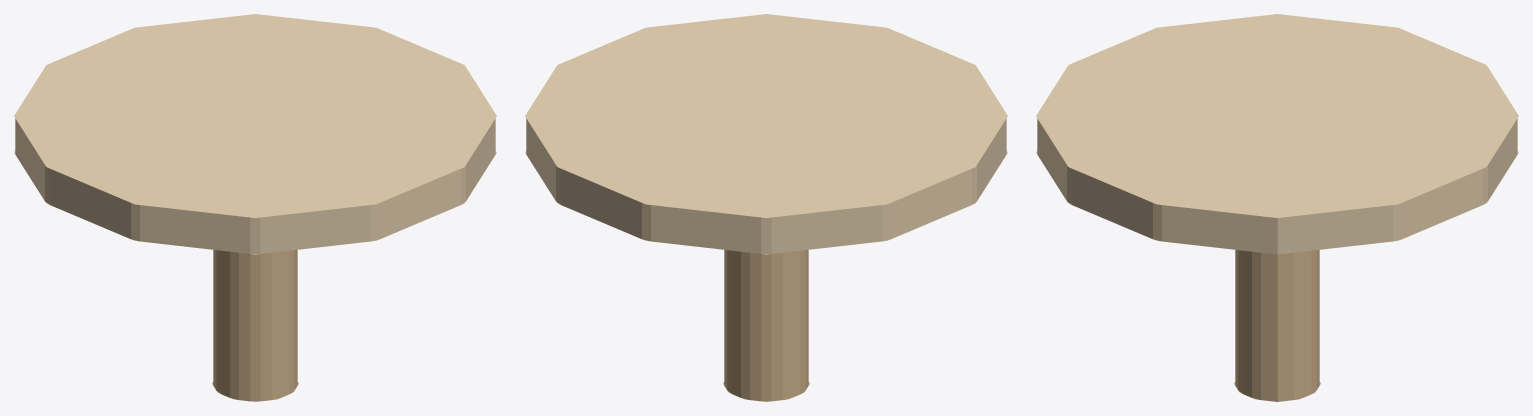
The model's file is round_table.glb.
3 views of the same model, side by side, from view 1: azimuth 30°, elevation 25°; view 2: azimuth 150°, elevation 25°; view 3: azimuth 270°, elevation 25° (orthographic).
Parts seen in each view (by area): view 1: round_table_oak_light_0, round_table_oak_1; view 2: round_table_oak_light_0, round_table_oak_1; view 3: round_table_oak_light_0, round_table_oak_1.
Part boxes in pixels (left/top/right/bottom): round_table_oak_light_0: left=14, top=14, right=496, bottom=254; round_table_oak_1: left=212, top=250, right=298, bottom=401; round_table_oak_light_0: left=525, top=14, right=1007, bottom=254; round_table_oak_1: left=723, top=250, right=809, bottom=401; round_table_oak_light_0: left=1036, top=14, right=1518, bottom=254; round_table_oak_1: left=1234, top=250, right=1320, bottom=401.
Bounding box in the file's own units: 0.72 × 0.44 × 0.72.
